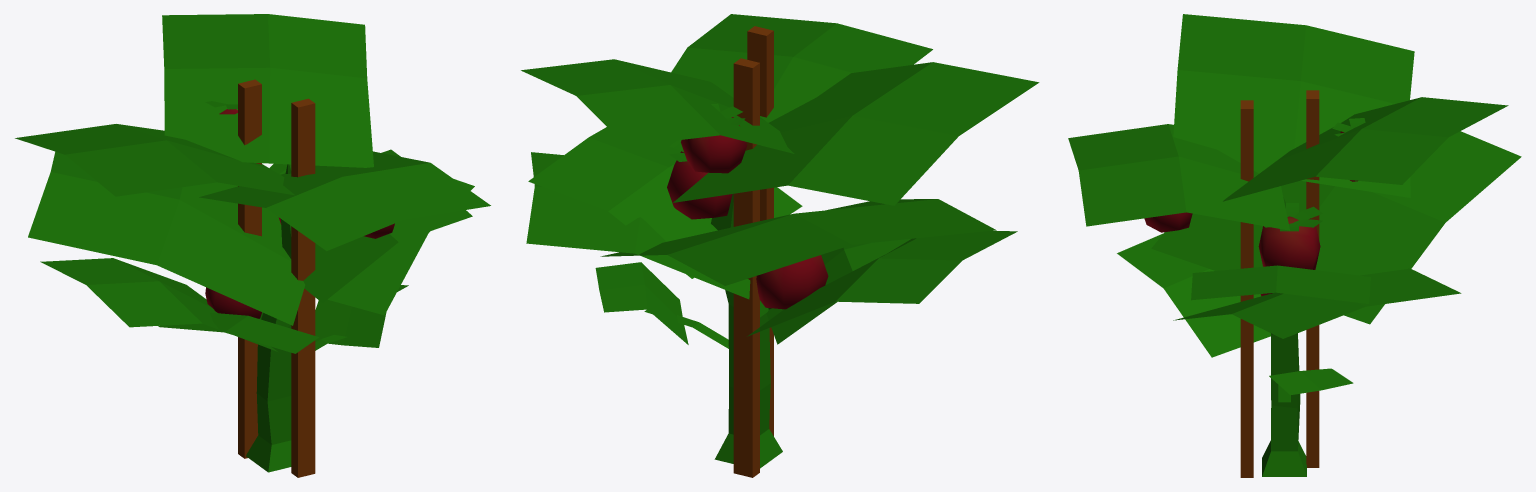
Rendered from tomato_plant.glb.
3 views of the same model, side by side, from view 1: azimuth 30°, elevation 25°; view 2: azimuth 150°, elevation 25°; view 3: azimuth 270°, elevation 25° (orthographic). The views are drawn at different scales.
Visible parts, largest first — view 1: Leaves, Supports, Stem, Tomato.001; view 2: Leaves, Supports, Stem, Tomato.001, Tomato.003, Tomato; view 3: Leaves, Supports, Stem, Tomato, Tomato.002.
Part boxes in pixels (x1,y1,x2,y2): Leaves: (15, 14, 490, 353); Supports: (238, 79, 315, 477); Stem: (246, 164, 291, 472); Tomato.001: (205, 287, 261, 318); Leaves: (521, 14, 1039, 344); Supports: (733, 26, 773, 477); Stem: (711, 194, 782, 468); Tomato.001: (756, 255, 828, 309); Tomato.003: (681, 103, 747, 173); Tomato: (667, 140, 732, 219); Leaves: (1068, 14, 1521, 395); Supports: (1240, 90, 1319, 477); Stem: (1262, 197, 1306, 476); Tomato: (1258, 203, 1322, 269); Tomato.002: (1144, 212, 1192, 232).
Size of the model in its own units: 1.38 by 1.13 by 1.25.
